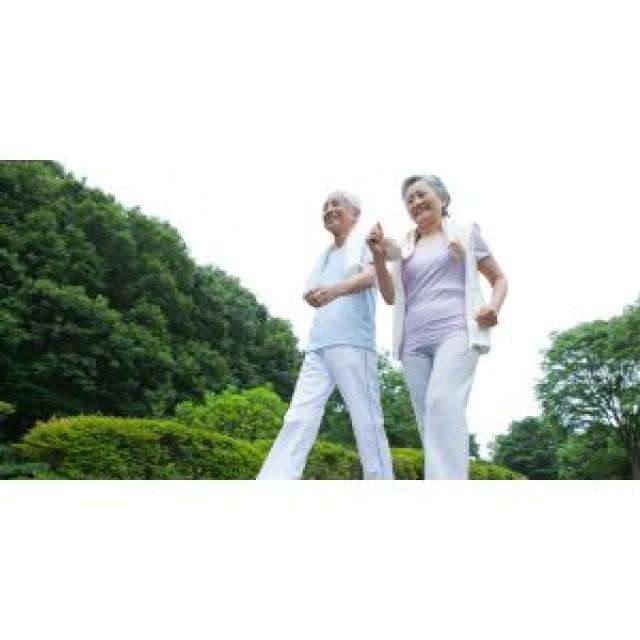nonfall: (260, 189, 396, 496), (391, 171, 491, 490)
